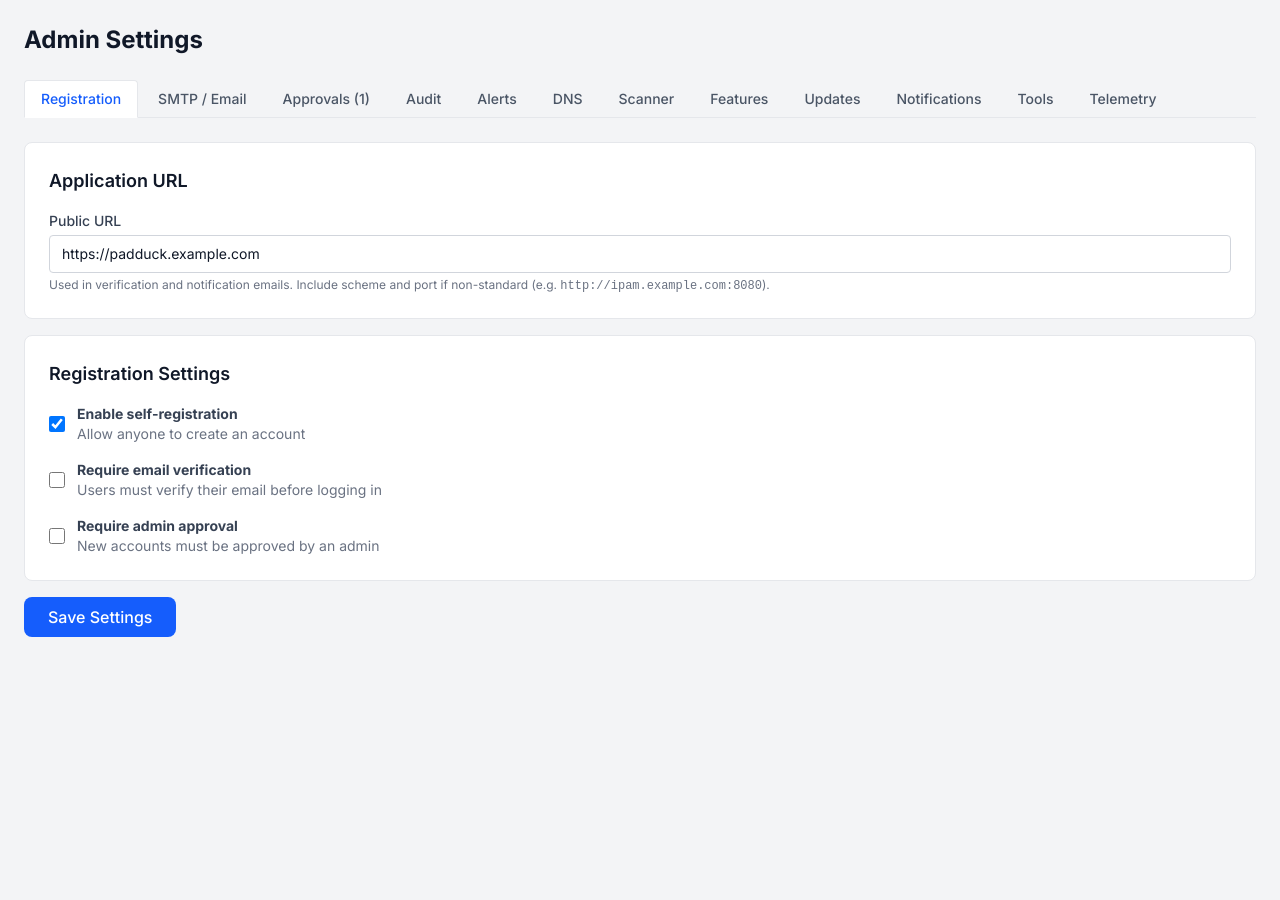
Test: AdminSettingsPage shell › shows the pending approval count in the tab label and approves users
The image size is (1280, 900).
Click the button "Approvals (1)". click: (326, 98)
box: [267,80,386,117]
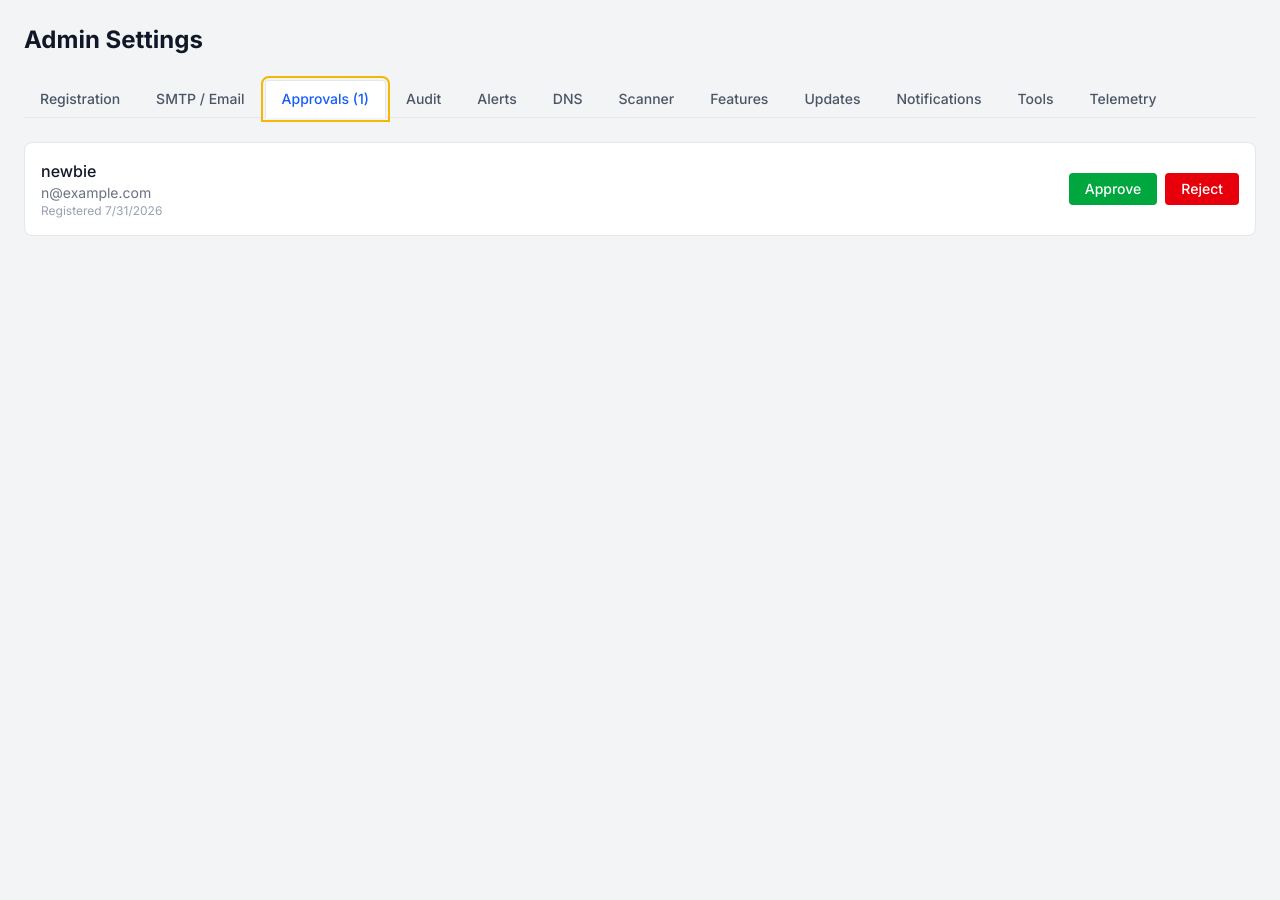
Now the text "newbie" is shown, box [41,161,96,181]
Click the button "Approve". click: (1113, 189)
box: [1069,173,1157,205]
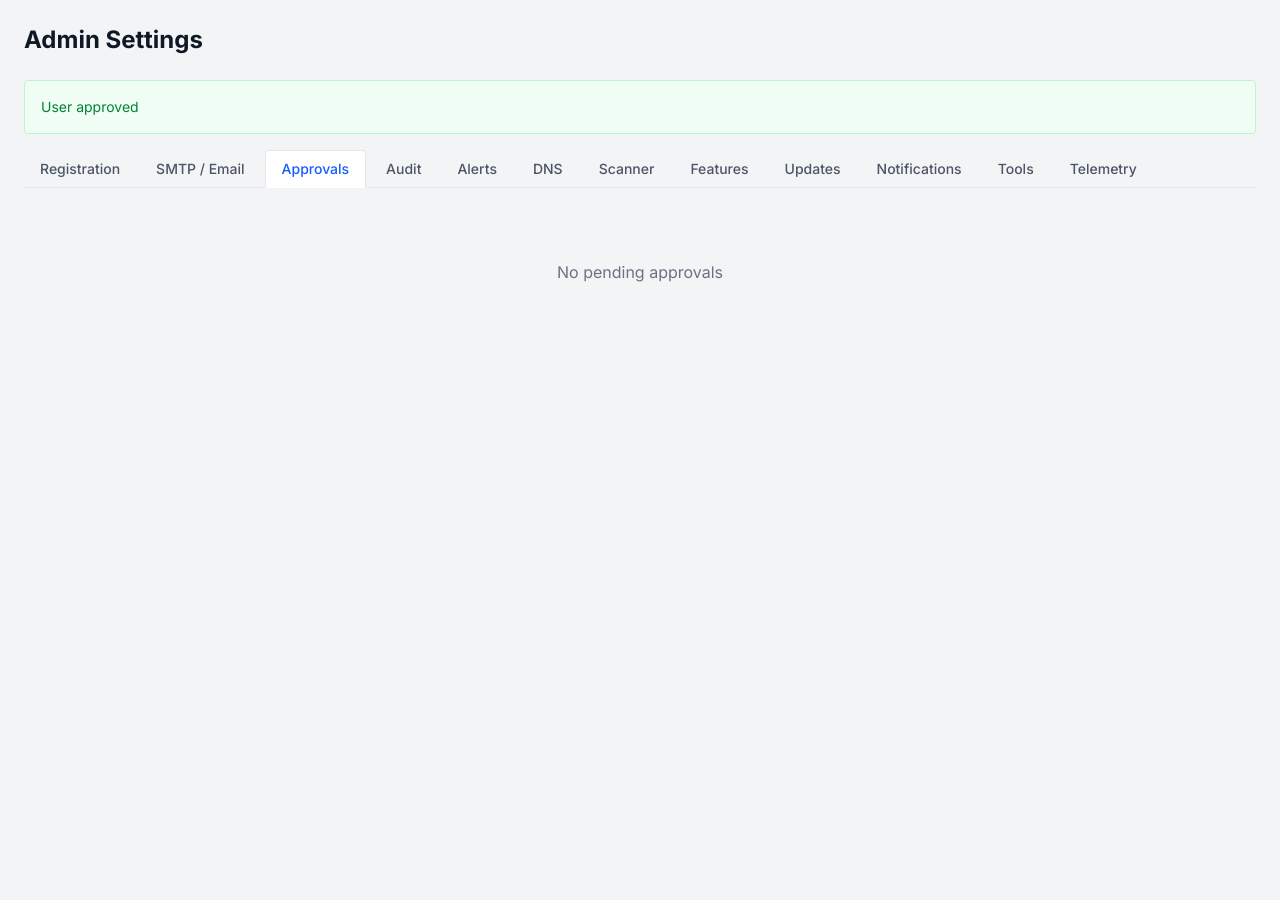
Now the text "No pending approvals" is shown, box [557,262,723,282]
